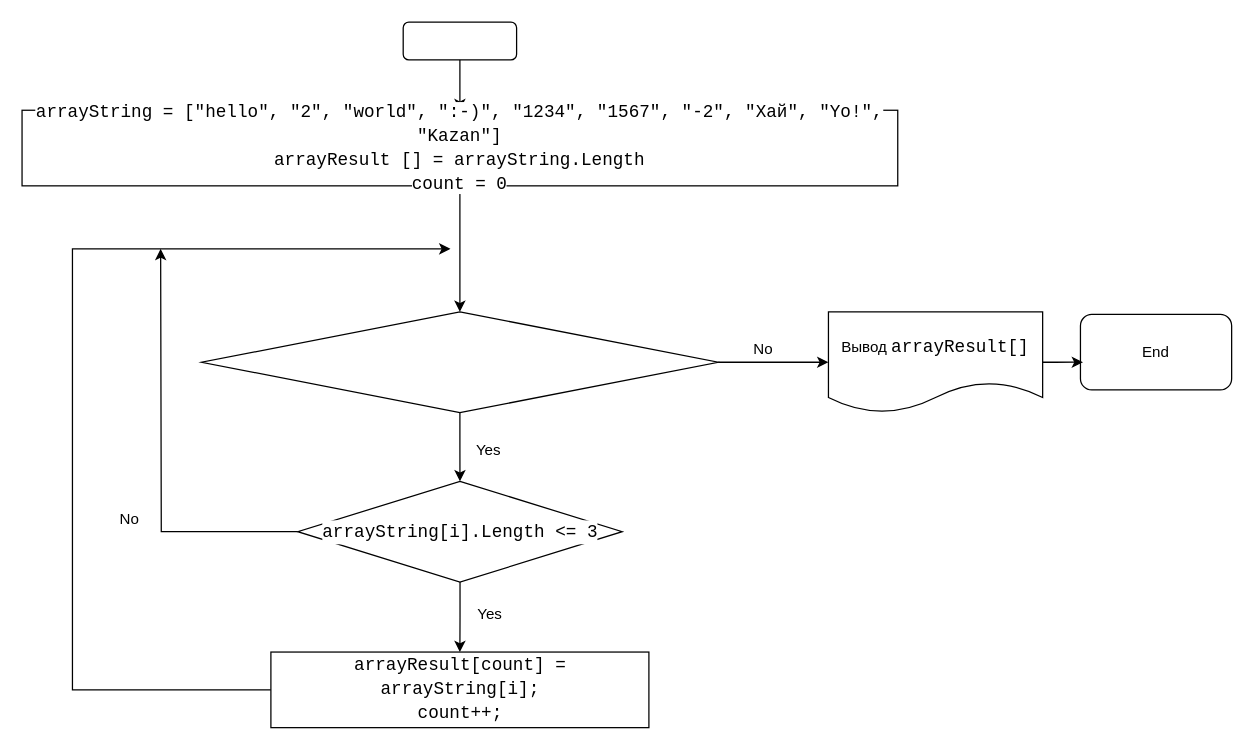
The diagram is 1254 pixels wide and 750 high, and some of its shapes have lost their labels. The shapes that lost their labels are listed below. From the top down, each one's centre as x and y in pixels, then its label:
At (459,40): "Start".
At (459,362): "for i = 0; i < arrayString.Length; i++".
